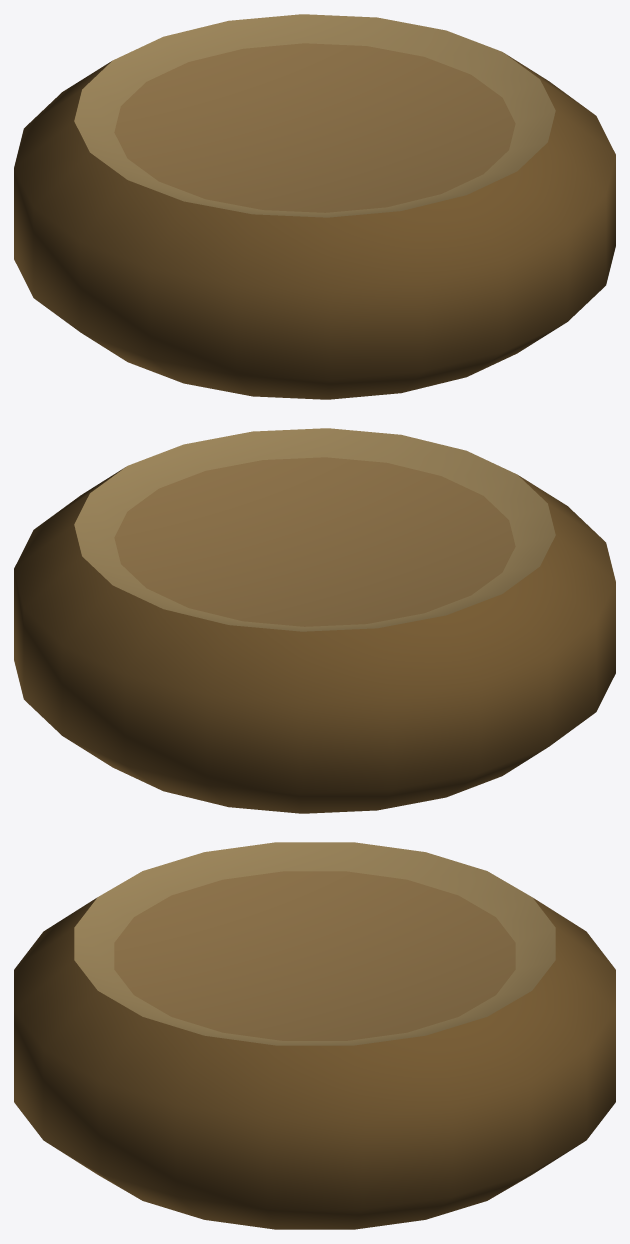
Rendered from tyrian10-7.glb.
3 renders of one model, top to bottom at view 1: azimuth 30°, elevation 25°; view 2: azimuth 150°, elevation 25°; view 3: azimuth 270°, elevation 25°, orthographic.
Visible parts, largest first — view 1: tyrian10-7; view 2: tyrian10-7; view 3: tyrian10-7.
Boxes of the visible parts, bbox=[...] form: tyrian10-7: bbox=[14, 14, 615, 399]; tyrian10-7: bbox=[14, 428, 615, 813]; tyrian10-7: bbox=[14, 842, 615, 1229].
Size of the model in its own units: 0.7408 by 0.25 by 0.7408.
